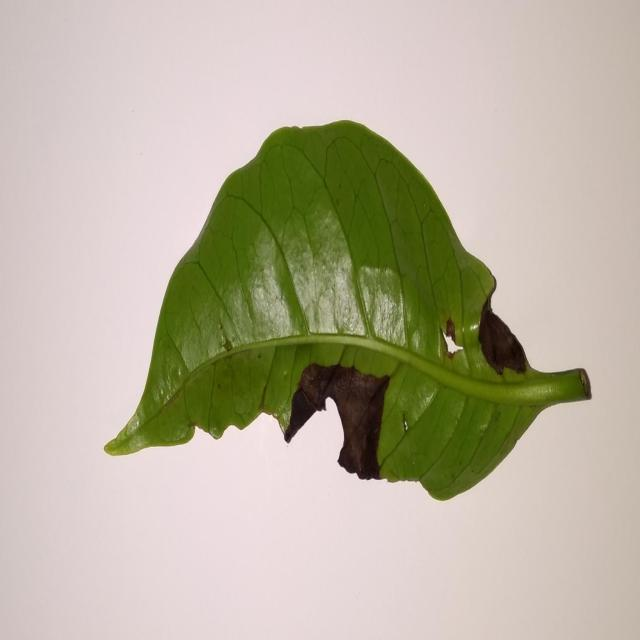phoma: (284, 362, 390, 479), (478, 286, 536, 379)
